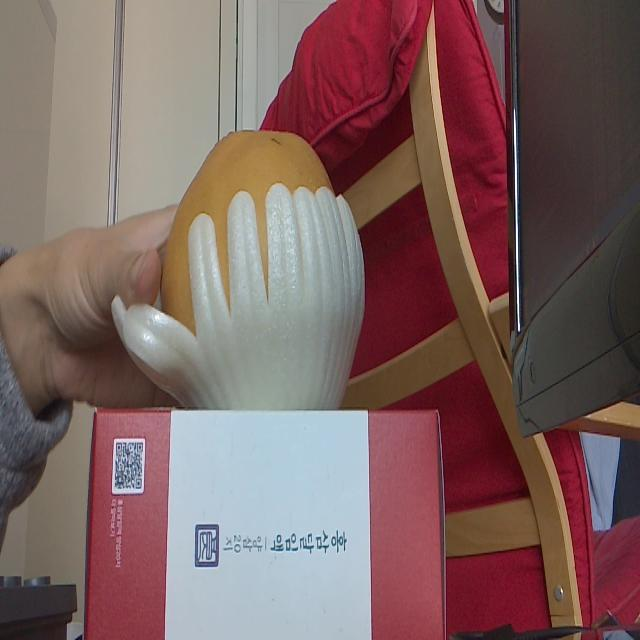pear: (161, 129, 365, 411)
